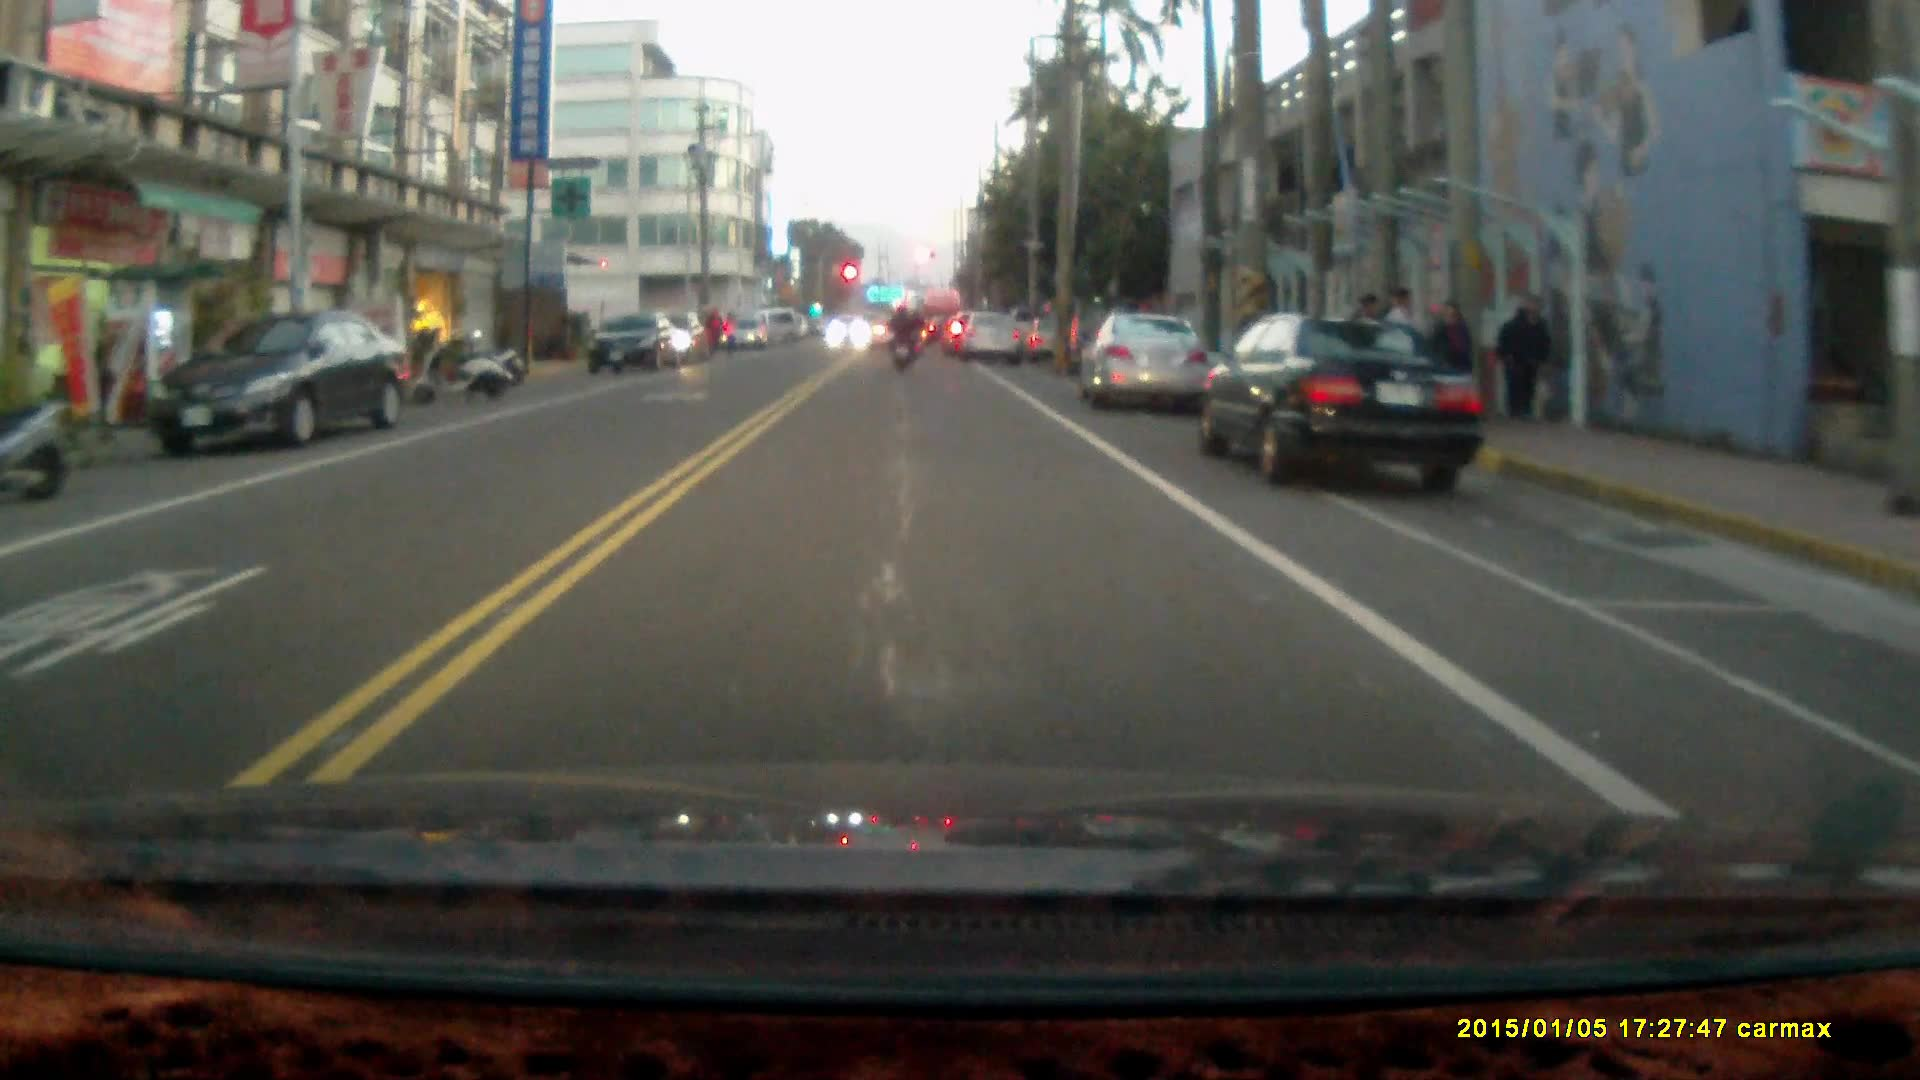pedestrian: (1495, 283, 1551, 416), (1425, 295, 1476, 406), (1385, 282, 1429, 397)
rider: (884, 300, 915, 374)
vehicle: (1191, 297, 1494, 480), (140, 297, 418, 440), (1082, 298, 1215, 403), (590, 310, 693, 370), (966, 301, 1027, 354)
